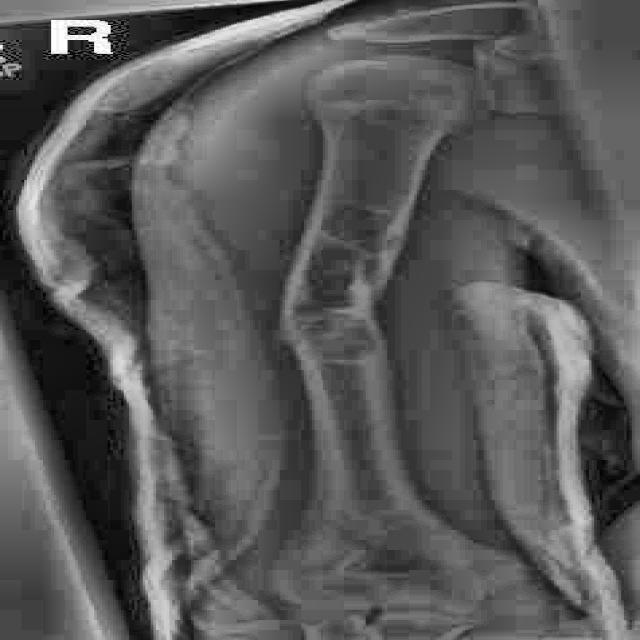humerus: (242, 234, 476, 392)
